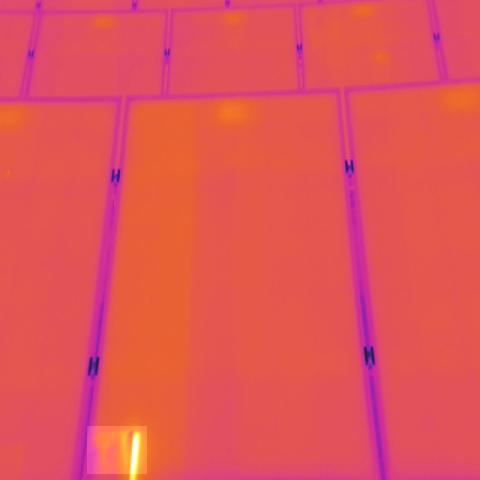fault: (87, 426, 147, 475)
